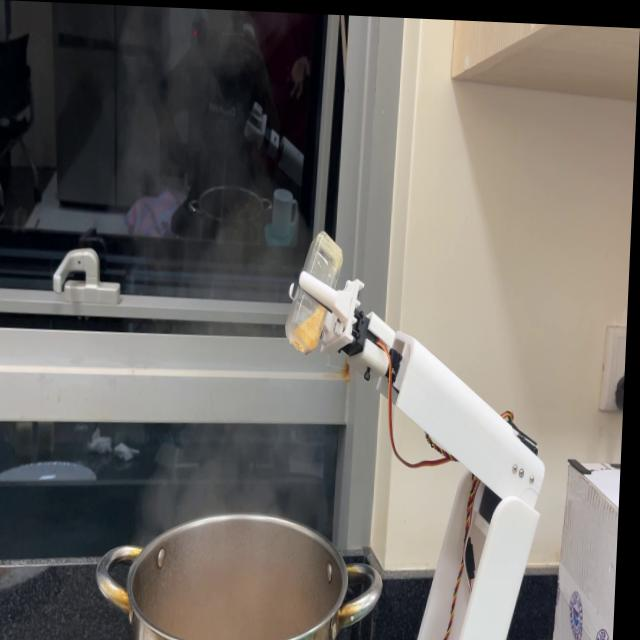cooking_pot: (105, 508, 394, 640)
garlic_powder: (296, 306, 326, 353)
